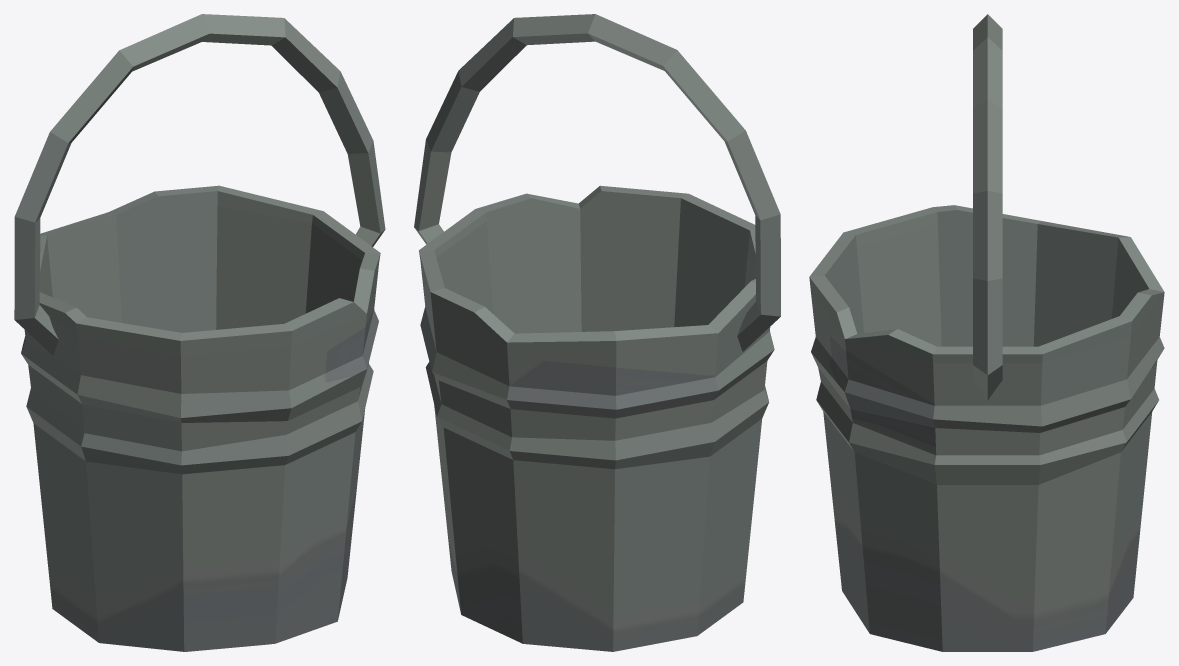
File: SM_Bucket.fbx
The picture shows the model from 3 angles, left to right: view 1: azimuth 30°, elevation 25°; view 2: azimuth 150°, elevation 25°; view 3: azimuth 270°, elevation 25°; orthographic projection. The views are drawn at different scales.
Visible parts, largest first — view 1: SM_Bucket, SM_Bucket_Handle; view 2: SM_Bucket, SM_Bucket_Handle; view 3: SM_Bucket, SM_Bucket_Handle.
Part boxes in pixels (bbox=[...]): SM_Bucket: bbox=[21, 185, 380, 651]; SM_Bucket_Handle: bbox=[14, 14, 385, 355]; SM_Bucket: bbox=[419, 185, 774, 651]; SM_Bucket_Handle: bbox=[414, 14, 780, 351]; SM_Bucket: bbox=[809, 205, 1164, 651]; SM_Bucket_Handle: bbox=[973, 14, 1002, 400].
Bounding box in the file's own units: 51.25 × 76.71 × 44.
